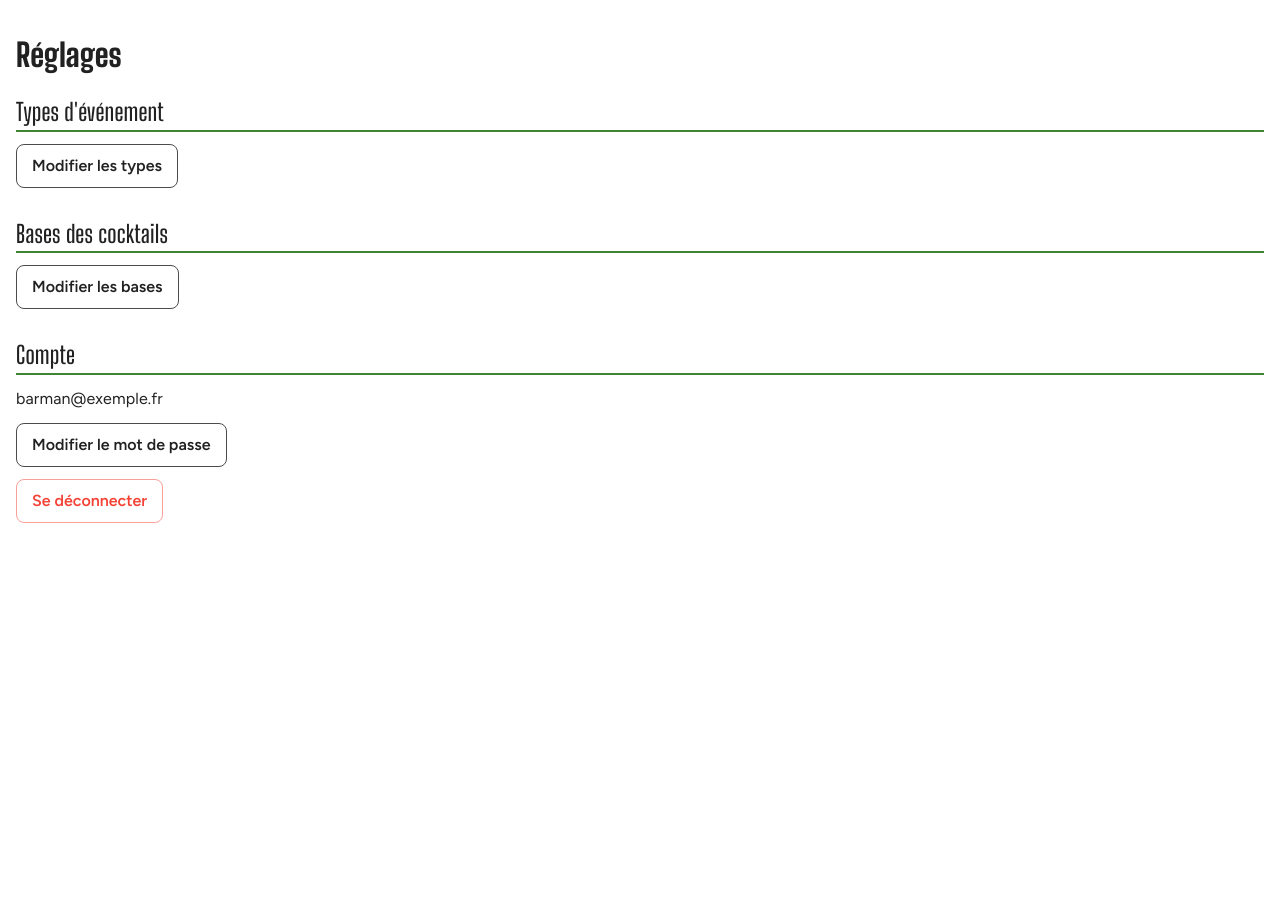
EcranReglages › renomme un type avec « Modifier », puis valide
Click the button "Modifier les types".
click(97, 166)  # box [16,144,178,188]
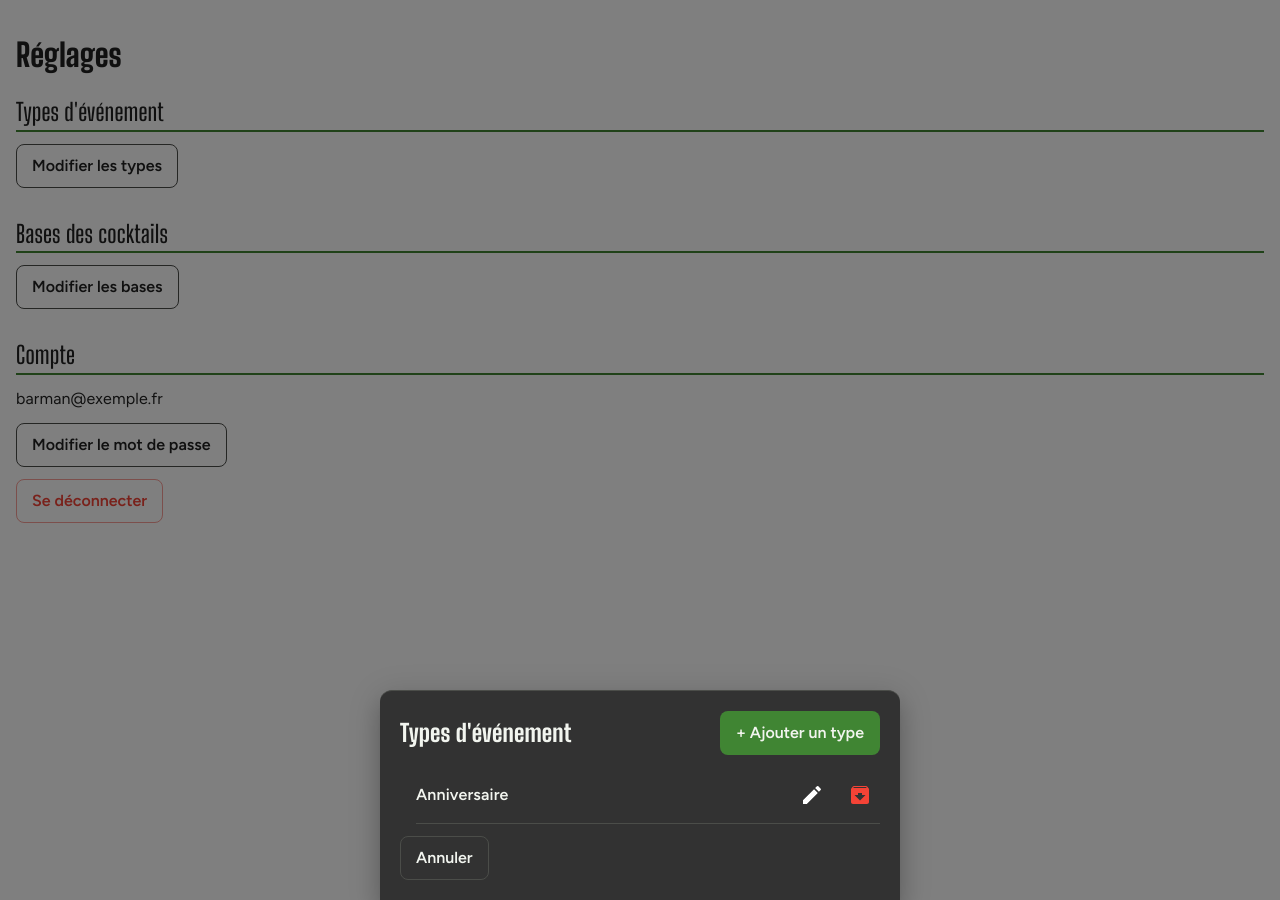
Click the button named "Modifier Anniversaire".
click(812, 795)  # box [792,775,832,815]
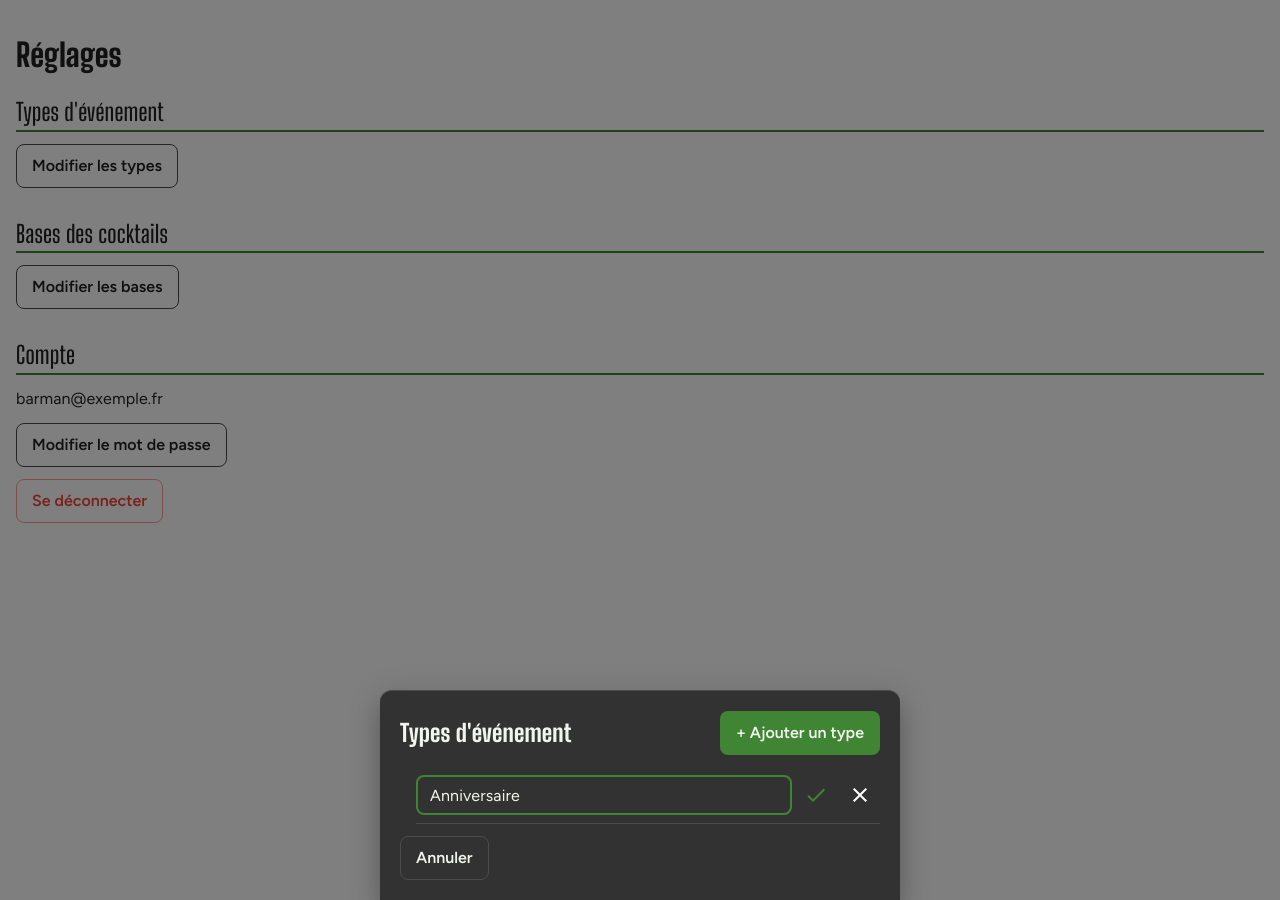
Expected: the field named "Nouveau nom pour Anniversaire" holds "Anniversaire"
Replace the text in the field named "Nouveau nom pour Anniversaire" with " Fête " at [604, 795], box [416,775,792,815]
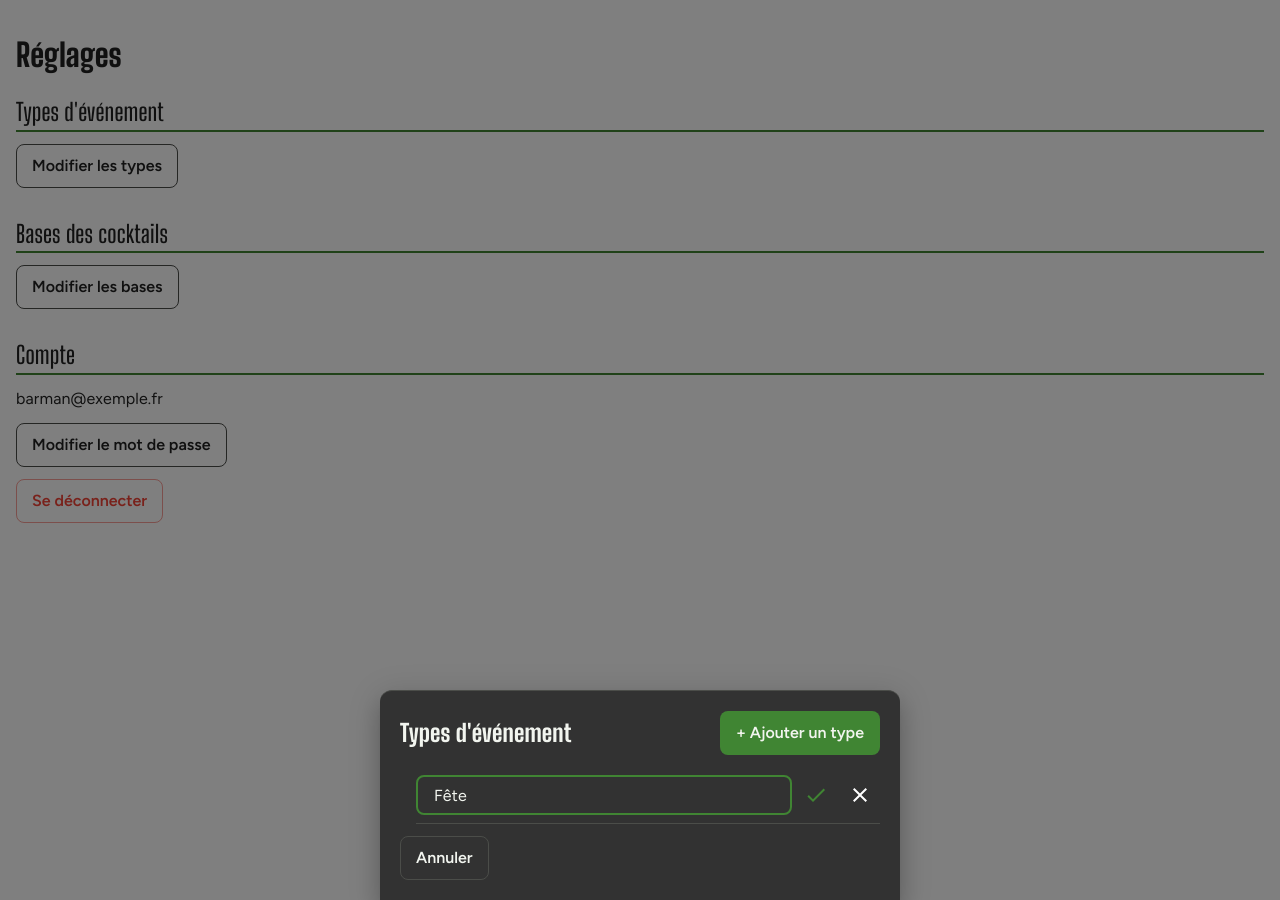
Click the button named "Valider".
click(816, 795)  # box [796,775,836,815]
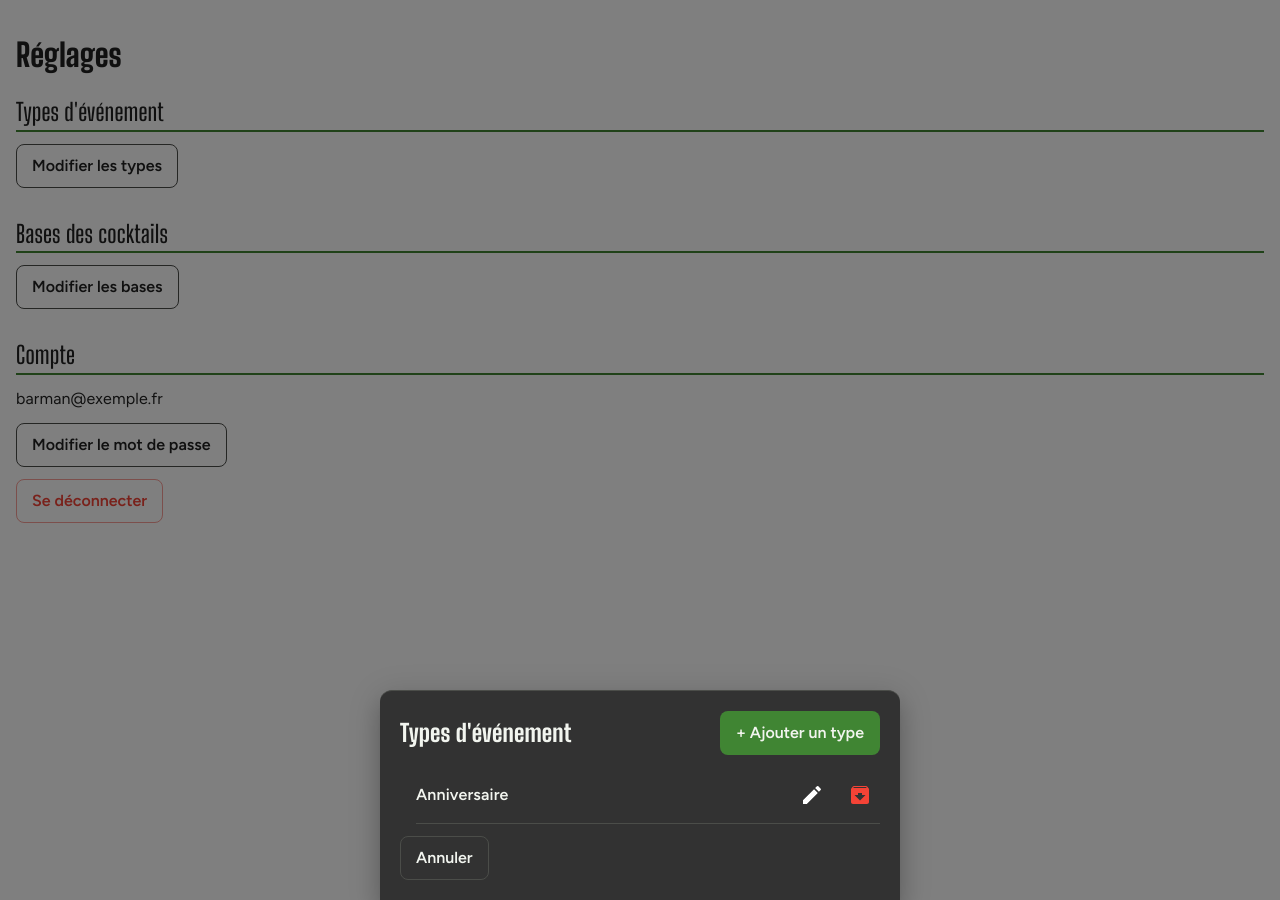
Expected: the field is gone
